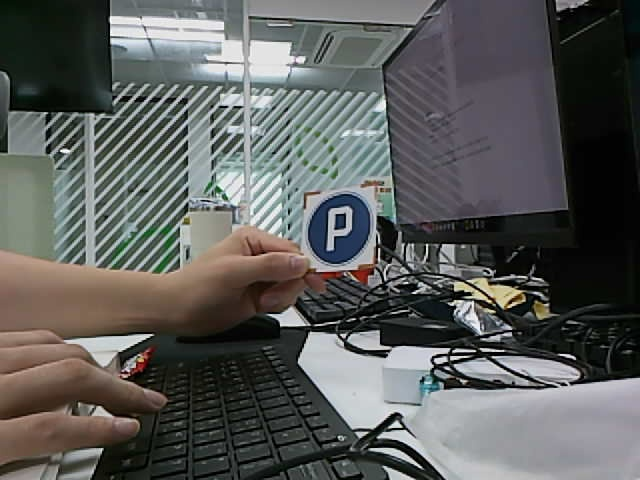park: (304, 191, 375, 266)
